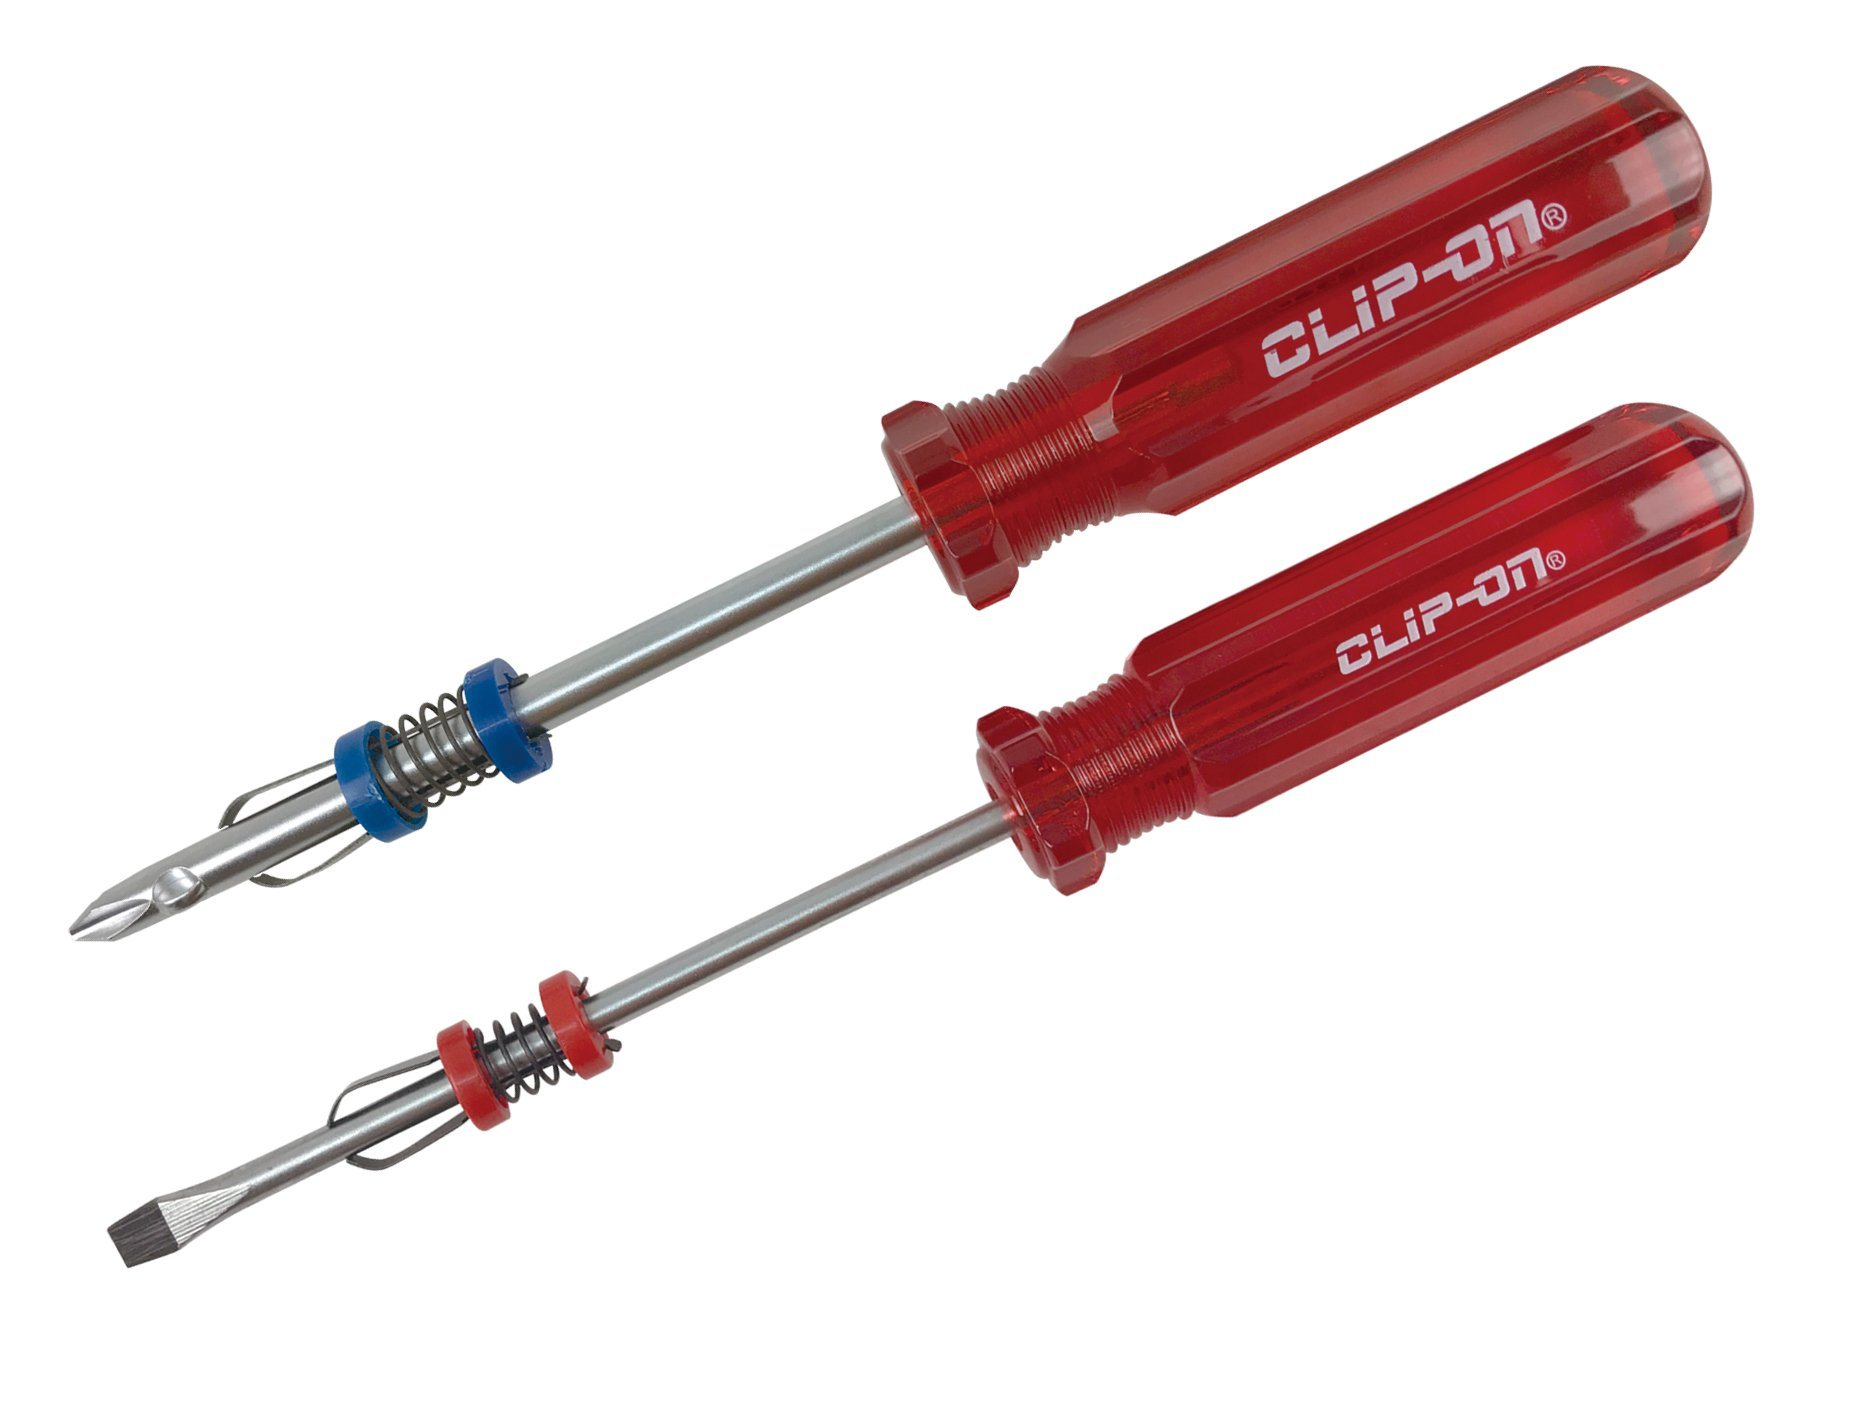screwdriver: (102, 399, 1764, 1273), (61, 62, 1717, 940)
